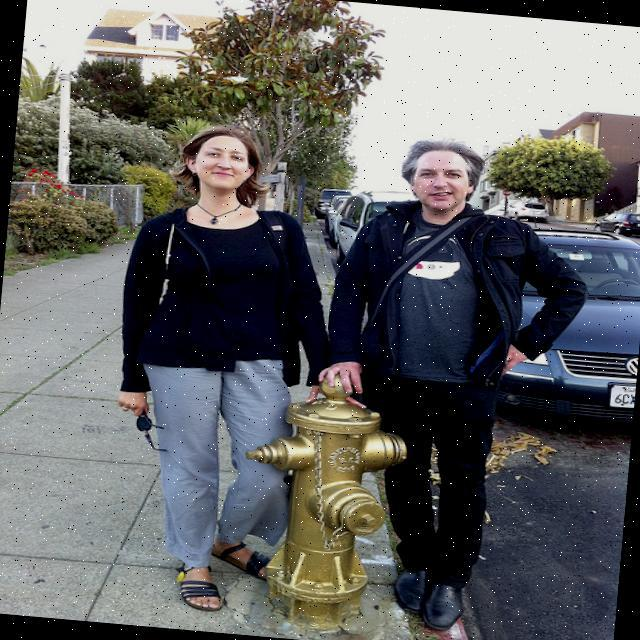fire_hydrant: (240, 388, 412, 614)
